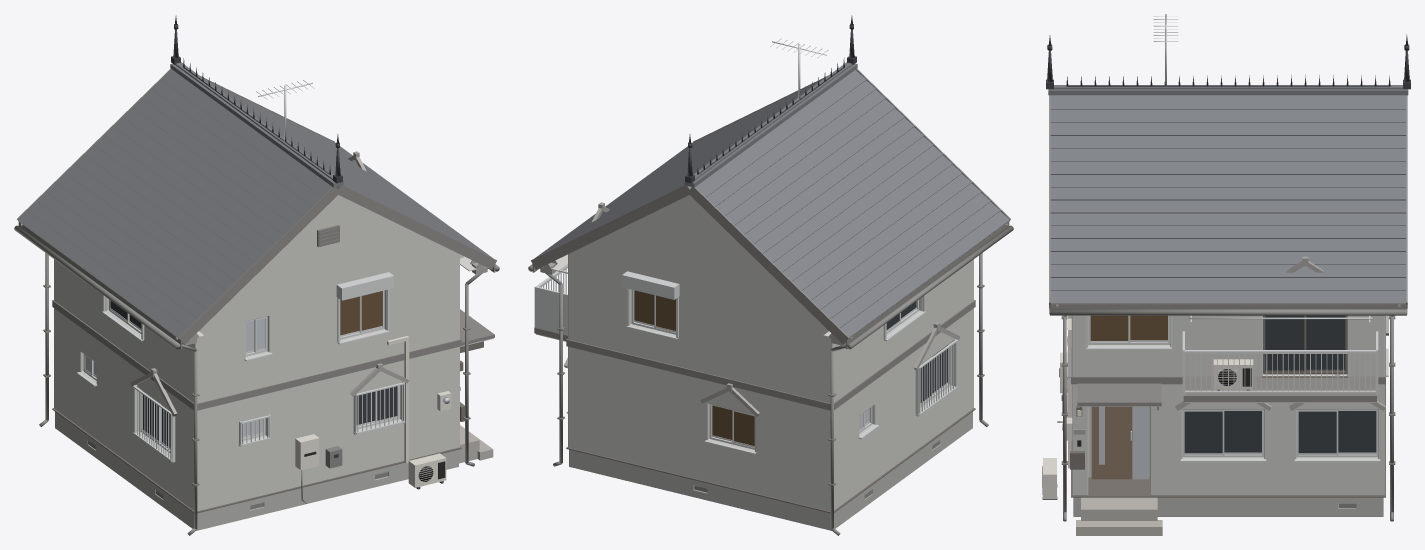
Rendered from jp_house_b.glb.
3 renders of one model, left to right at view 1: azimuth 30°, elevation 25°; view 2: azimuth 150°, elevation 25°; view 3: azimuth 270°, elevation 25°, orthographic. The views are drawn at different scales.
Parts seen in each view (by area): view 1: jp_house_b; view 2: jp_house_b; view 3: jp_house_b.
Part boxes in pixels (bbox=[...]): jp_house_b: bbox=[14, 15, 499, 535]; jp_house_b: bbox=[528, 15, 1013, 535]; jp_house_b: bbox=[1042, 14, 1410, 535].
Size of the model in its own units: 8.5 by 9.38 by 7.44.
